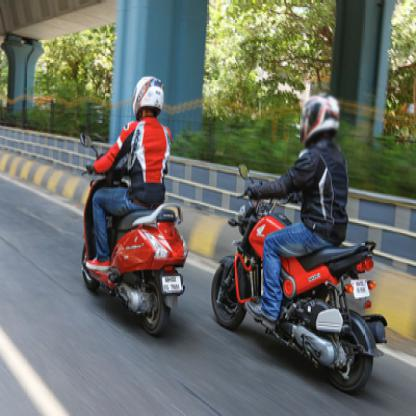Helmet: (299, 90, 343, 148), (130, 72, 166, 124)
